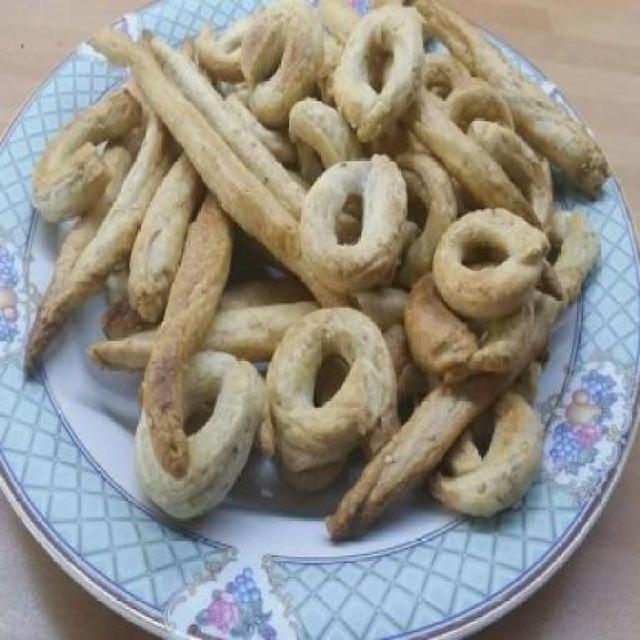Taralli: (40, 14, 603, 512)
